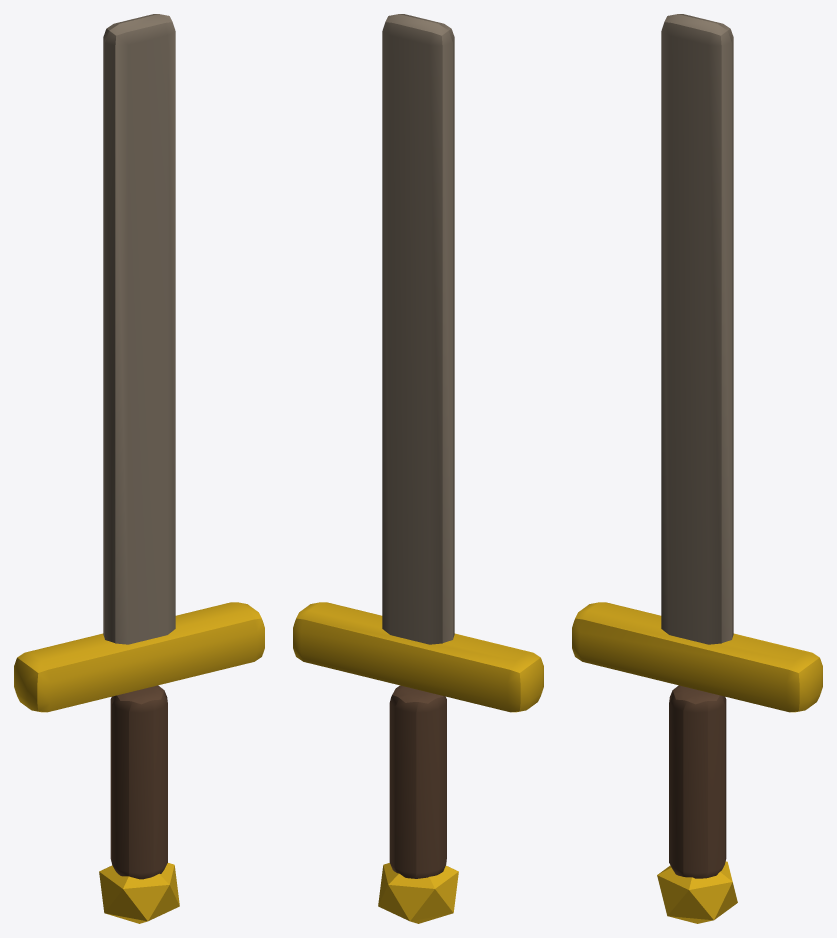
The model's file is equip_sword.glb.
3 renders of one model, left to right at view 1: azimuth 30°, elevation 25°; view 2: azimuth 150°, elevation 25°; view 3: azimuth 330°, elevation 25°, orthographic.
Parts seen in each view (by area): view 1: sw_blade, sw_guard, sw_grip, sw_pommel; view 2: sw_blade, sw_guard, sw_grip, sw_pommel; view 3: sw_blade, sw_guard, sw_grip, sw_pommel.
Boxes of the visible parts, x1,y1,x2,y2 form: sw_blade: [103, 14, 175, 644]; sw_guard: [14, 602, 264, 712]; sw_grip: [110, 685, 167, 879]; sw_pommel: [99, 863, 179, 923]; sw_blade: [382, 14, 454, 644]; sw_guard: [293, 602, 543, 712]; sw_grip: [389, 685, 446, 878]; sw_pommel: [378, 863, 458, 923]; sw_blade: [661, 14, 733, 644]; sw_guard: [572, 602, 822, 712]; sw_grip: [669, 685, 726, 878]; sw_pommel: [657, 861, 737, 923].
Bounding box in the file's own units: 0.24 × 0.879 × 0.0681.
